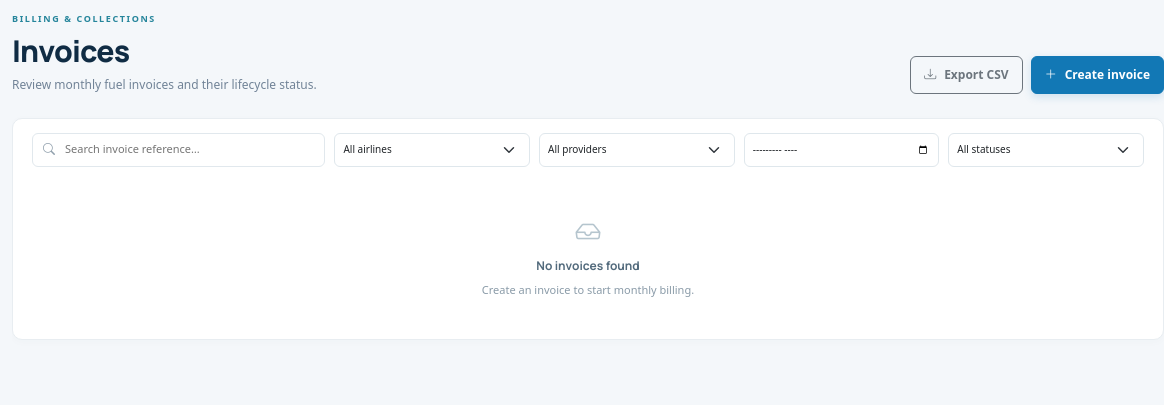
invoice list integration › shows filter-specific empty guidance and clears all invoice filters
The width and height of the screenshot is (1164, 405).
Expected: the text "Create an invoice to start monthly billing." is shown, left=482, top=282, right=694, bottom=298
Type "INV-1" into the field labelled "Search invoice reference" at [189, 150], box left=63, top=140, right=314, bottom=159
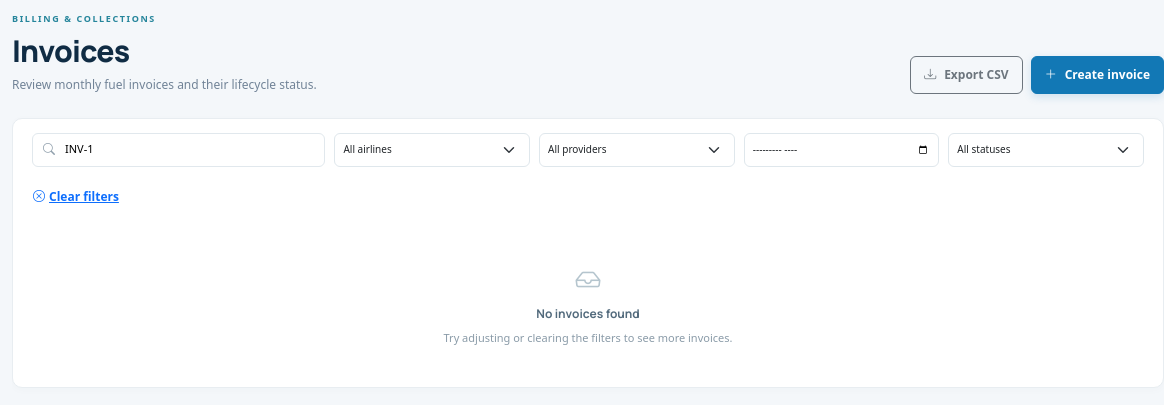
Select "ATL · Atlas Air" in the dropdown named "Filter airline" at [432, 150], box left=334, top=132, right=530, bottom=166
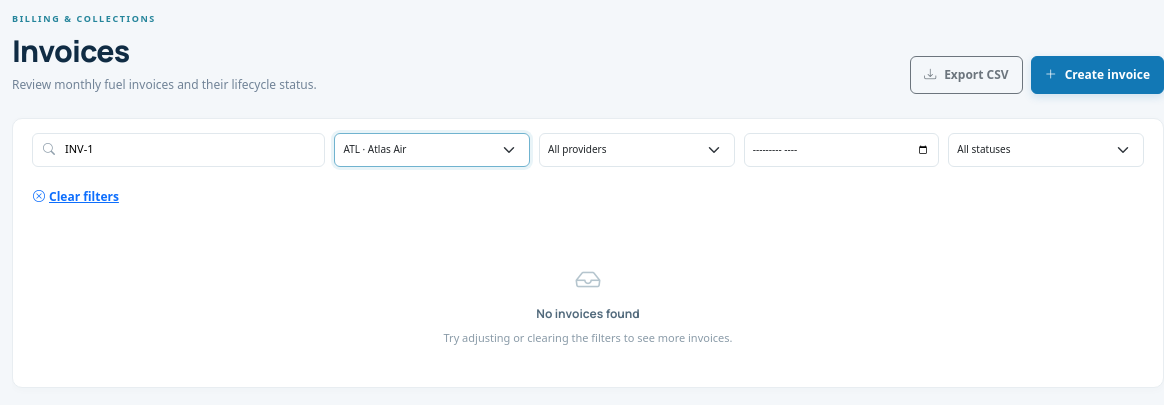
Select "NFS · Northstar Fuel" in the dropdown named "Filter provider" at [637, 150], box left=539, top=132, right=735, bottom=166
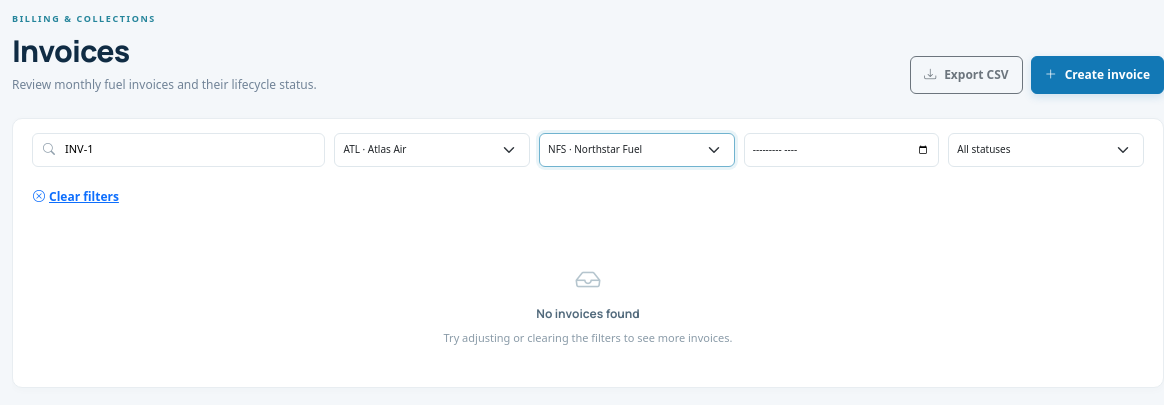
Type "2026-05" into the field named "Filter billing month" at [842, 150], box left=744, top=132, right=939, bottom=166
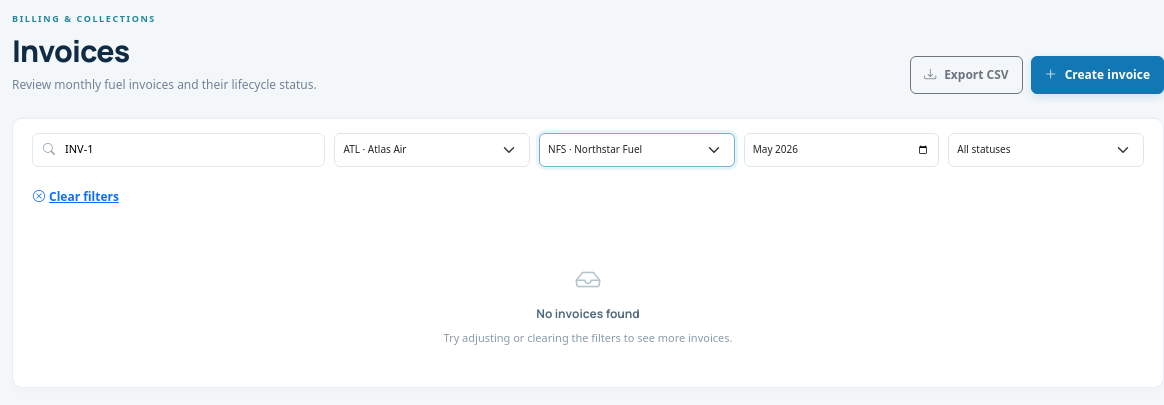
Select "Draft" in the dropdown named "Filter status" at [1046, 150], box left=948, top=132, right=1144, bottom=166
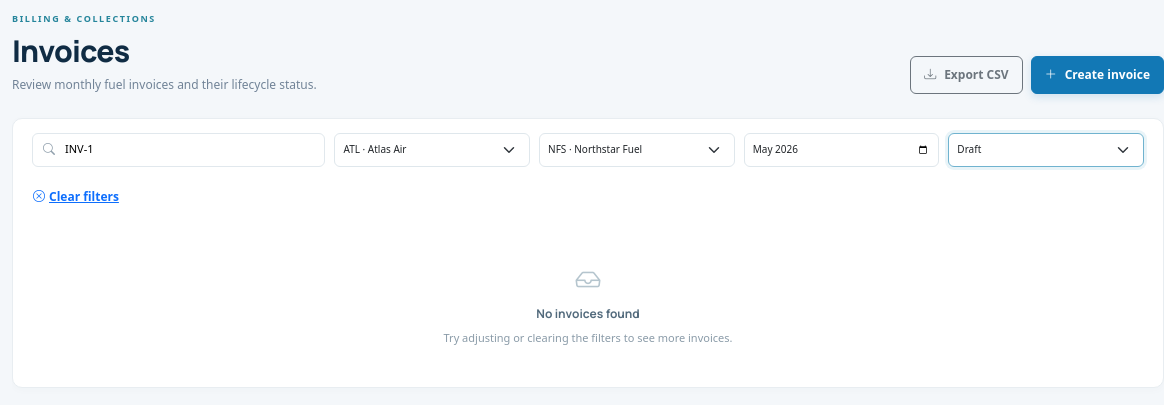
Result: the text "Try adjusting or clearing the filters to see more invoices." is shown at left=444, top=330, right=732, bottom=346
Click the button "Clear filters" at [76, 196], box left=32, top=180, right=120, bottom=212
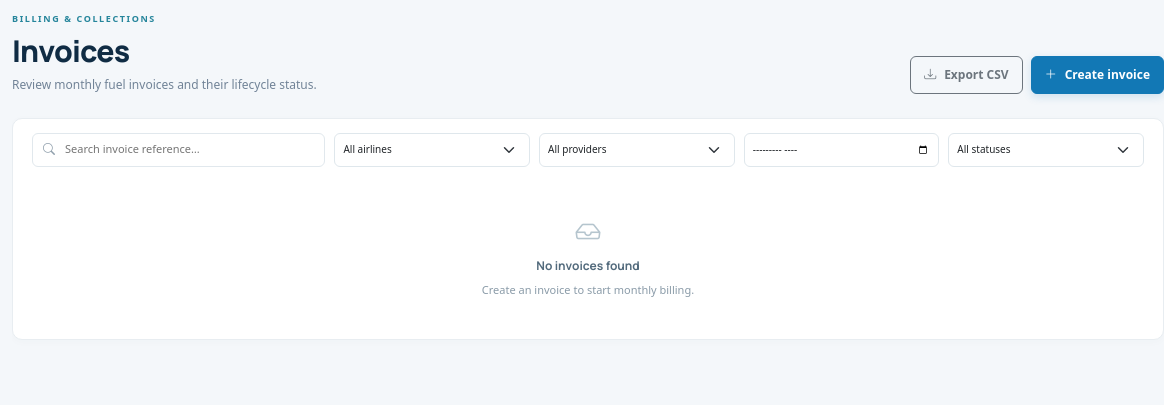
Result: the field labelled "Search invoice reference" is empty at left=63, top=140, right=314, bottom=159
Result: the field named "Filter billing month" is empty at left=744, top=132, right=939, bottom=166
Result: the text "Create an invoice to start monthly billing." is shown at left=482, top=282, right=694, bottom=298
